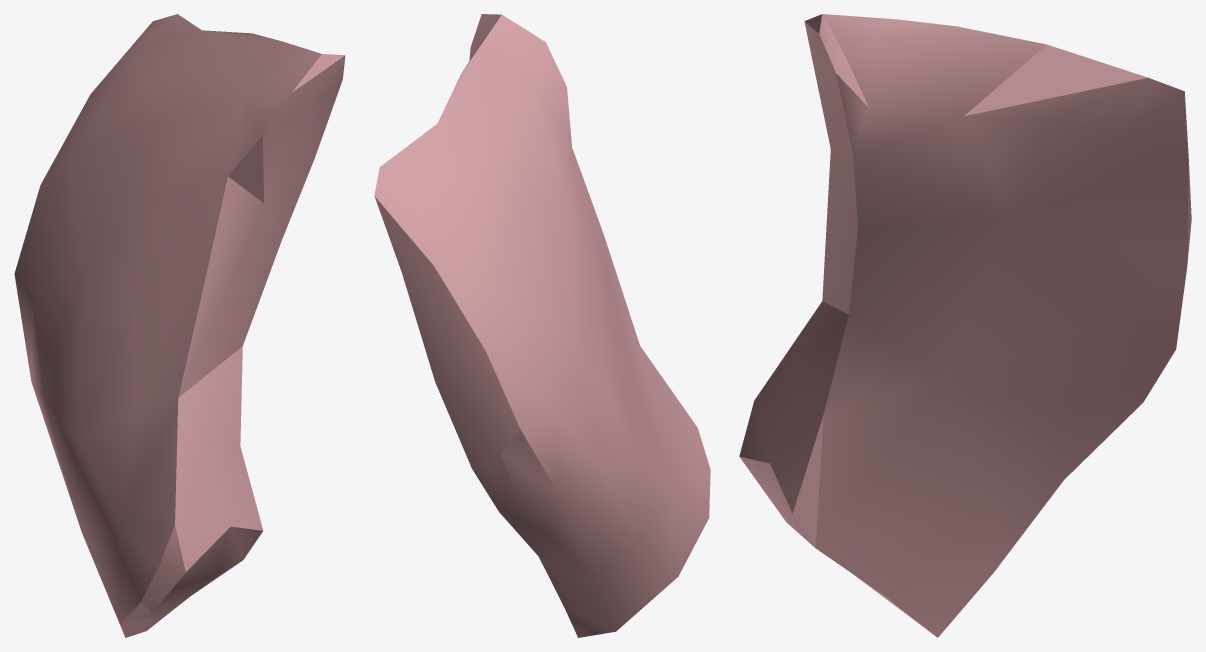
Rendered from fma72726_mm235m.glb.
3 renders of one model, left to right at view 1: azimuth 30°, elevation 25°; view 2: azimuth 150°, elevation 25°; view 3: azimuth 270°, elevation 25°, orthographic. The views are drawn at different scales.
Visible parts, largest first — view 1: FMA72726_MM235M; view 2: FMA72726_MM235M; view 3: FMA72726_MM235M.
Part boxes in pixels (x1,y1,x2,y2): FMA72726_MM235M: [14, 14, 345, 637]; FMA72726_MM235M: [374, 14, 710, 637]; FMA72726_MM235M: [739, 14, 1191, 637].
Bounding box in the file's own units: 0.00982 × 0.0243 × 0.0142.
